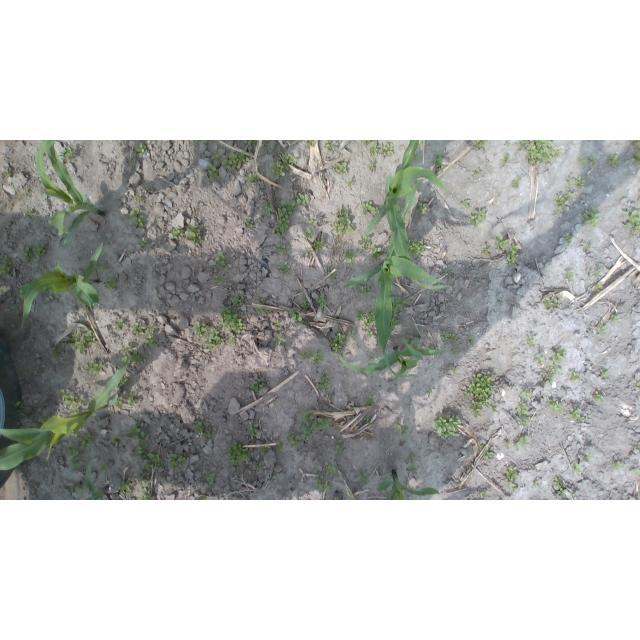Maize: (342, 180, 423, 382), (1, 352, 132, 469), (361, 141, 456, 292), (35, 141, 105, 246), (20, 242, 104, 327), (336, 349, 448, 376), (344, 472, 442, 500), (82, 464, 109, 500)
Weeds: (463, 370, 496, 418), (191, 321, 225, 351), (541, 348, 566, 387), (126, 421, 148, 462), (432, 413, 465, 440), (519, 140, 556, 164), (276, 200, 297, 238), (218, 307, 246, 334), (223, 441, 251, 466), (332, 206, 355, 236), (58, 389, 83, 416), (71, 332, 98, 355), (554, 191, 575, 216), (513, 398, 531, 427), (298, 410, 315, 440), (135, 472, 153, 500), (388, 296, 402, 332), (221, 151, 249, 169), (66, 444, 85, 470), (141, 452, 165, 472), (72, 428, 97, 447), (621, 210, 640, 235), (120, 344, 142, 365), (22, 243, 47, 261), (327, 331, 345, 356), (581, 208, 602, 229), (191, 418, 212, 438), (269, 160, 289, 180), (185, 223, 203, 245), (143, 325, 160, 348), (315, 470, 331, 494), (406, 238, 426, 257), (466, 209, 486, 228), (128, 207, 146, 228), (355, 309, 375, 327), (166, 453, 188, 469), (301, 349, 324, 364), (506, 244, 520, 268), (58, 145, 76, 163), (353, 468, 371, 486), (289, 190, 309, 206), (565, 173, 585, 189), (553, 476, 568, 497), (0, 253, 14, 275), (14, 402, 32, 419), (84, 359, 103, 375), (433, 152, 447, 173), (358, 235, 373, 254), (68, 481, 88, 495), (259, 200, 273, 220), (629, 141, 640, 166), (393, 418, 409, 435), (316, 374, 333, 390), (214, 252, 230, 269), (568, 407, 585, 423), (249, 379, 267, 394), (314, 418, 332, 433), (545, 398, 563, 413), (592, 320, 608, 336), (568, 368, 585, 383), (287, 431, 301, 449), (206, 163, 220, 181), (361, 201, 379, 215), (514, 436, 530, 451), (31, 416, 49, 429), (401, 338, 419, 351), (543, 297, 561, 310), (245, 423, 260, 438), (230, 291, 245, 306), (495, 236, 510, 251), (608, 154, 624, 168), (282, 153, 299, 166), (324, 462, 338, 477), (245, 172, 260, 186), (343, 249, 358, 263), (121, 480, 132, 499), (439, 331, 458, 342), (382, 143, 395, 158), (114, 317, 127, 332), (132, 322, 145, 337), (315, 293, 328, 308), (336, 161, 349, 175), (48, 346, 61, 360), (272, 333, 286, 346), (288, 309, 302, 322), (278, 261, 291, 275), (506, 466, 519, 480), (136, 144, 148, 159), (520, 388, 533, 401), (416, 202, 428, 216), (113, 396, 125, 410), (104, 277, 118, 289), (371, 247, 386, 258), (205, 469, 215, 485), (333, 444, 345, 457), (313, 239, 325, 252), (173, 227, 184, 241), (485, 447, 496, 461), (503, 482, 517, 493), (117, 376, 129, 388), (276, 243, 288, 255), (533, 354, 545, 366), (525, 335, 537, 347), (592, 390, 604, 402), (326, 141, 337, 154), (363, 282, 374, 295), (127, 390, 136, 405), (364, 395, 374, 408), (599, 367, 609, 380), (499, 153, 510, 164), (593, 282, 604, 293), (327, 266, 337, 278), (255, 306, 270, 314), (213, 275, 225, 285), (402, 294, 412, 306), (511, 176, 521, 188), (275, 441, 285, 452), (481, 489, 492, 499), (576, 156, 586, 167), (563, 233, 573, 244), (589, 267, 600, 277), (370, 144, 379, 156), (368, 160, 377, 172), (112, 434, 121, 446), (406, 465, 418, 474), (573, 462, 582, 474), (345, 329, 355, 339), (563, 271, 573, 281), (444, 267, 455, 276), (413, 151, 422, 162), (588, 157, 599, 166), (366, 354, 377, 363), (304, 229, 315, 238), (461, 199, 472, 208), (473, 141, 487, 148), (94, 263, 106, 271), (427, 345, 440, 352), (366, 329, 375, 339), (300, 300, 310, 309), (134, 192, 143, 202), (245, 218, 254, 228), (583, 453, 593, 462), (481, 245, 490, 255), (363, 417, 374, 425), (253, 462, 262, 471), (139, 238, 148, 247), (492, 404, 501, 413), (347, 179, 355, 189), (468, 336, 476, 346), (533, 481, 543, 489), (613, 461, 623, 469), (555, 147, 563, 157), (230, 335, 237, 346), (426, 389, 434, 398), (198, 494, 210, 500), (353, 282, 361, 291), (610, 314, 618, 323), (583, 242, 592, 250), (306, 141, 316, 148), (307, 219, 317, 226), (630, 469, 640, 476), (25, 208, 33, 216), (260, 446, 268, 454), (476, 443, 484, 451), (451, 349, 460, 356), (471, 168, 481, 174), (244, 140, 256, 145), (99, 464, 107, 471), (307, 248, 314, 256), (23, 188, 29, 197), (634, 442, 640, 451), (406, 456, 416, 461), (452, 367, 459, 374), (504, 140, 511, 146), (5, 169, 11, 176), (273, 321, 279, 328), (213, 154, 219, 161), (203, 140, 213, 144), (363, 140, 372, 144), (264, 140, 270, 146), (616, 140, 622, 146), (23, 368, 29, 374), (259, 298, 265, 304), (130, 161, 136, 167), (436, 352, 441, 358), (120, 215, 125, 221), (504, 442, 510, 447), (636, 380, 640, 387), (572, 493, 576, 499), (499, 298, 503, 304), (236, 280, 240, 285), (637, 494, 640, 500)
